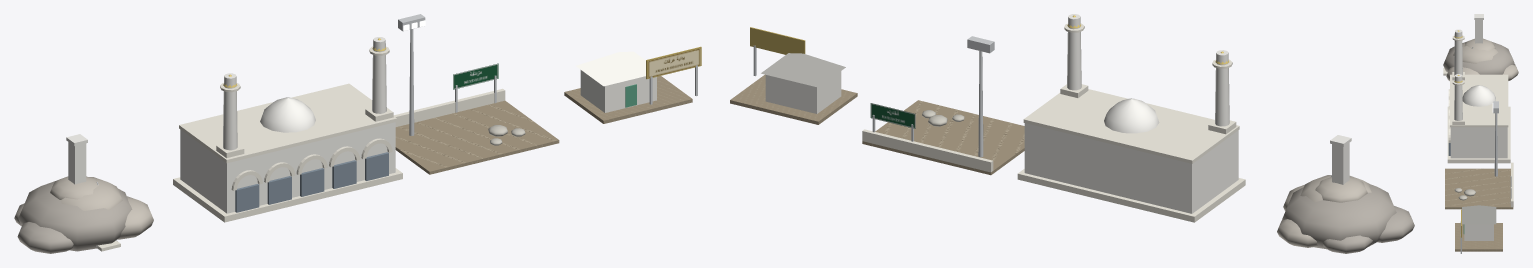
Rendered from kit-47-arafah-muzdalifah.glb.
3 renders of one model, left to right at view 1: azimuth 30°, elevation 25°; view 2: azimuth 150°, elevation 25°; view 3: azimuth 270°, elevation 25°, orthographic. The views are drawn at different scales.
Visible parts, largest first — view 1: Arafah_MasjidNamirah, Muzdalifah_Pelataran, Arafah_JabalRahmah, Arafah_TendaBatas; view 2: Arafah_MasjidNamirah, Arafah_JabalRahmah, Muzdalifah_Pelataran, Arafah_TendaBatas; view 3: Arafah_MasjidNamirah, Muzdalifah_Pelataran, Arafah_JabalRahmah, Arafah_TendaBatas.
Boxes of the visible parts, bbox=[...] form: Arafah_MasjidNamirah: bbox=[173, 37, 402, 222]; Muzdalifah_Pelataran: bbox=[393, 14, 559, 174]; Arafah_JabalRahmah: bbox=[14, 134, 153, 253]; Arafah_TendaBatas: bbox=[564, 46, 701, 123]; Arafah_MasjidNamirah: bbox=[1017, 14, 1245, 222]; Arafah_JabalRahmah: bbox=[1277, 135, 1414, 253]; Muzdalifah_Pelataran: bbox=[862, 36, 1024, 175]; Arafah_TendaBatas: bbox=[730, 27, 857, 124]; Arafah_MasjidNamirah: bbox=[1447, 29, 1510, 163]; Muzdalifah_Pelataran: bbox=[1445, 101, 1513, 209]; Arafah_JabalRahmah: bbox=[1443, 14, 1518, 80]; Arafah_TendaBatas: bbox=[1455, 205, 1502, 253].
Size of the model in its own units: 41.39 by 8.62 by 6.63.
Materials: 19 (3 with a texture image).
